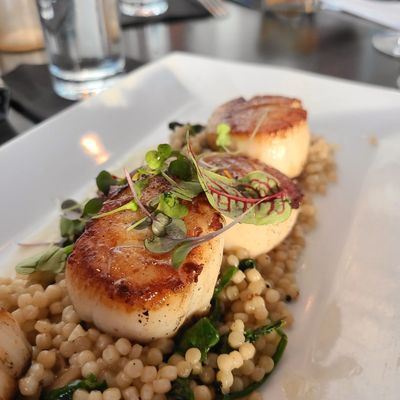curry: (175, 317, 221, 364)
pizza: (38, 0, 128, 101), (0, 0, 46, 53)
